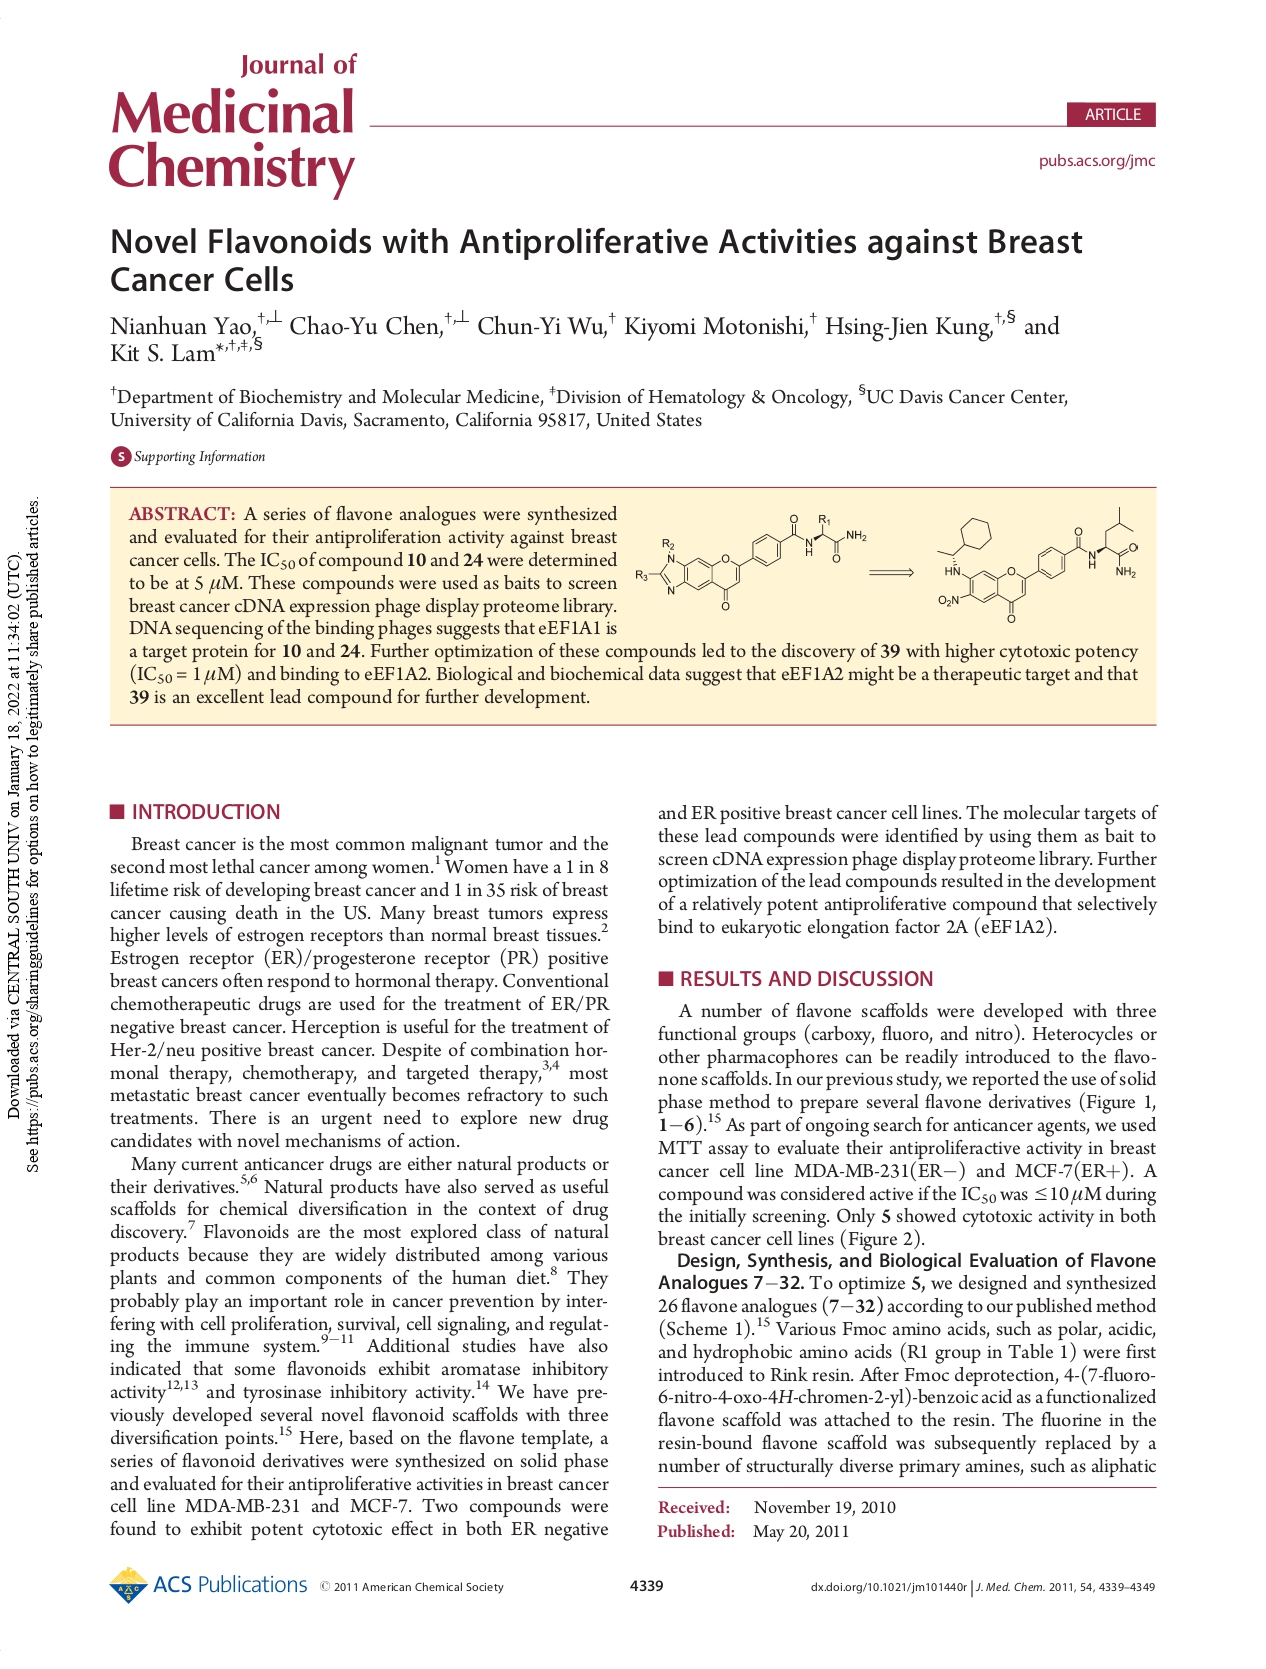exist_molecular: (926, 505, 1144, 626), (633, 509, 868, 614)
